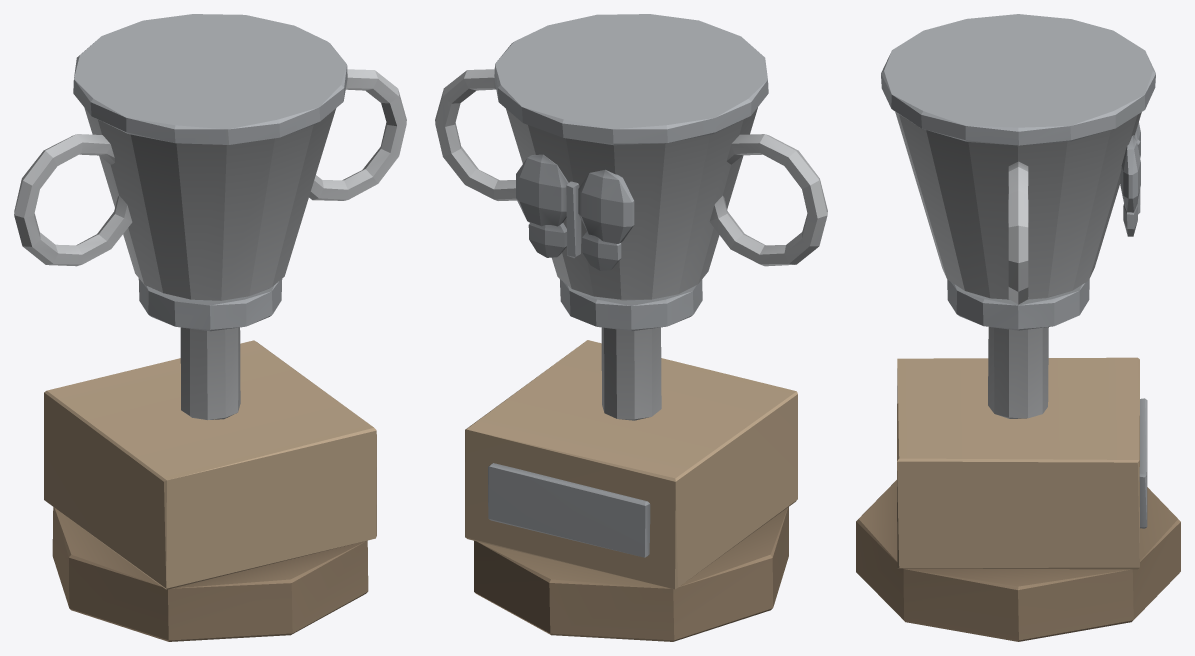
The model's file is event_trophy_bug_silver_low.glb.
3 views of the same model, side by side, from view 1: azimuth 30°, elevation 25°; view 2: azimuth 150°, elevation 25°; view 3: azimuth 270°, elevation 25° (orthographic).
Size of the model in its own units: 0.4423 by 0.545 by 0.3186.
